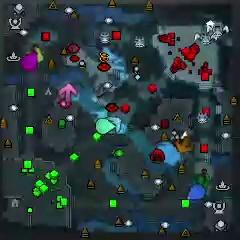p1: (187, 184, 205, 200)
p2: (95, 118, 115, 134)
p3: (21, 52, 38, 71)
x1: (60, 84, 76, 101)
x2: (32, 45, 44, 63)
x3: (107, 116, 122, 133)
x4: (192, 173, 212, 189)
x5: (175, 136, 192, 152)
